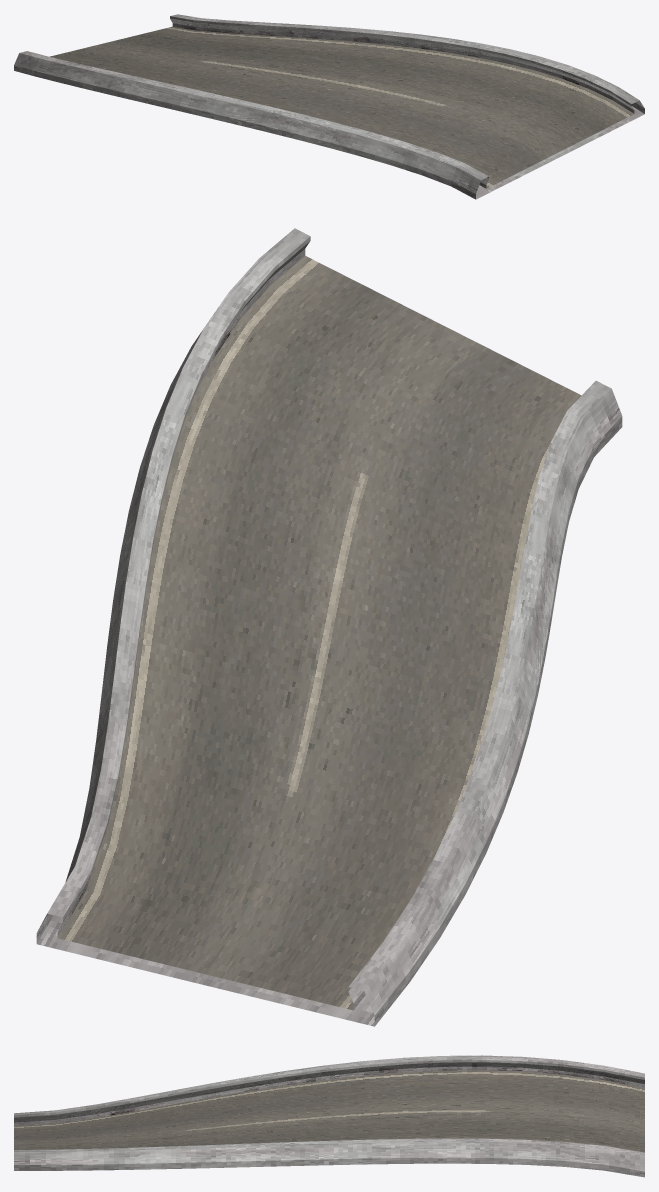
The model's file is road-Chicane-HalfBankedLeft-BiSlopeDown-Down1-Left1-Size3.glb.
3 renders of one model, top to bottom at view 1: azimuth 30°, elevation 25°; view 2: azimuth 150°, elevation 25°; view 3: azimuth 270°, elevation 25°, orthographic. The views are drawn at different scales.
Visible parts, largest first — view 1: road-Chicane-HalfBankedLeft-BiSlopeDown-Down1-Left1-Size3; view 2: road-Chicane-HalfBankedLeft-BiSlopeDown-Down1-Left1-Size3; view 3: road-Chicane-HalfBankedLeft-BiSlopeDown-Down1-Left1-Size3.
Part boxes in pixels (box(x1,y1,x2,y2)): road-Chicane-HalfBankedLeft-BiSlopeDown-Down1-Left1-Size3: box(14, 14, 644, 199); road-Chicane-HalfBankedLeft-BiSlopeDown-Down1-Left1-Size3: box(36, 228, 622, 1026); road-Chicane-HalfBankedLeft-BiSlopeDown-Down1-Left1-Size3: box(14, 1055, 644, 1177).
Size of the model in its own units: 2 by 0.5859 by 3.
Materials: 2 (2 with a texture image).
